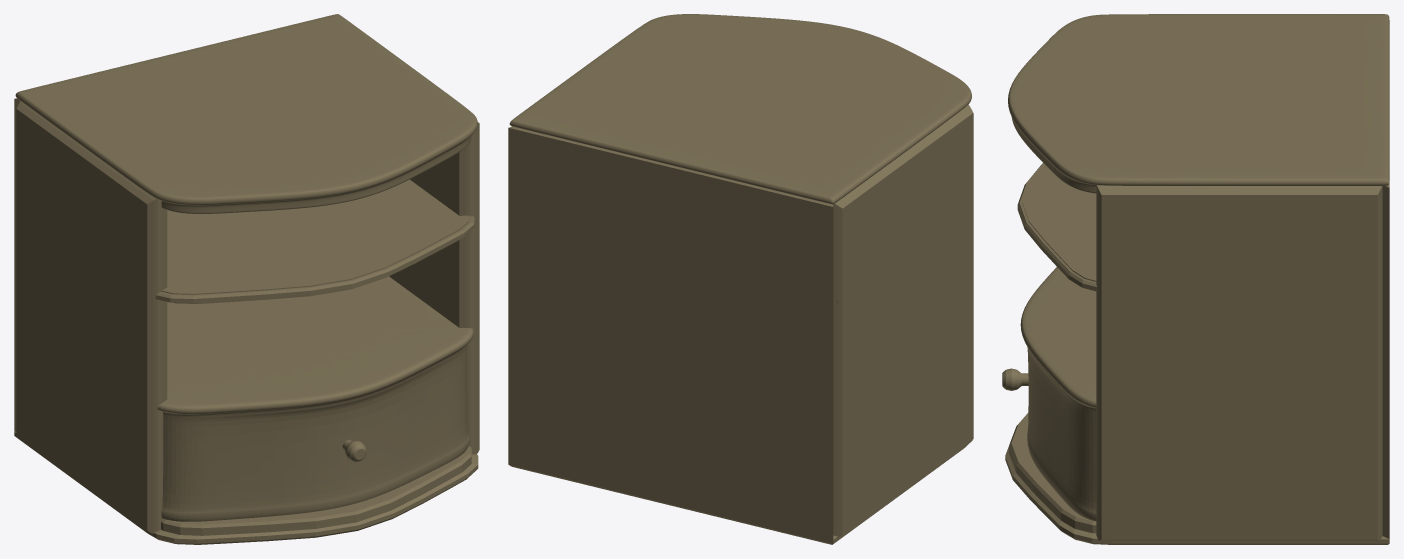
The model's file is Bedside table.fbx.
3 views of the same model, side by side, from view 1: azimuth 30°, elevation 25°; view 2: azimuth 150°, elevation 25°; view 3: azimuth 270°, elevation 25° (orthographic). The views are drawn at different scales.
Parts seen in each view (by area): view 1: Bedside table; view 2: Bedside table; view 3: Bedside table.
Boxes of the visible parts, <box> form: Bedside table: <box>14,14,479,544</box>; Bedside table: <box>508,14,973,544</box>; Bedside table: <box>1002,14,1389,544</box>.
Size of the model in its own units: 213 by 213 by 204.
